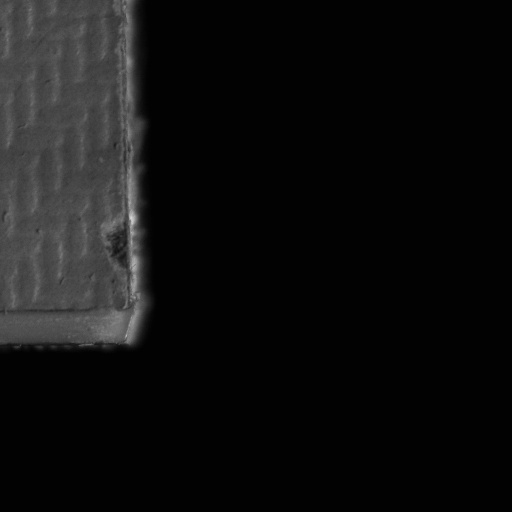bengque: (103, 214, 133, 271)
